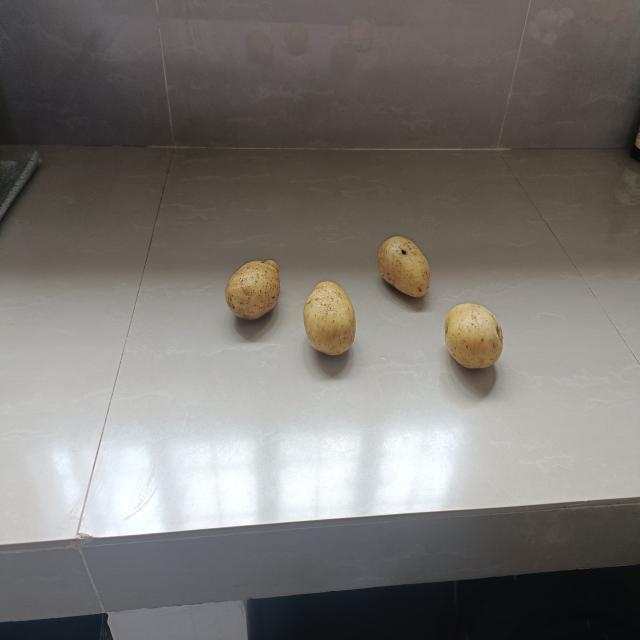potato: (444, 301, 505, 375), (301, 280, 357, 356), (224, 254, 283, 322), (376, 232, 433, 301)
